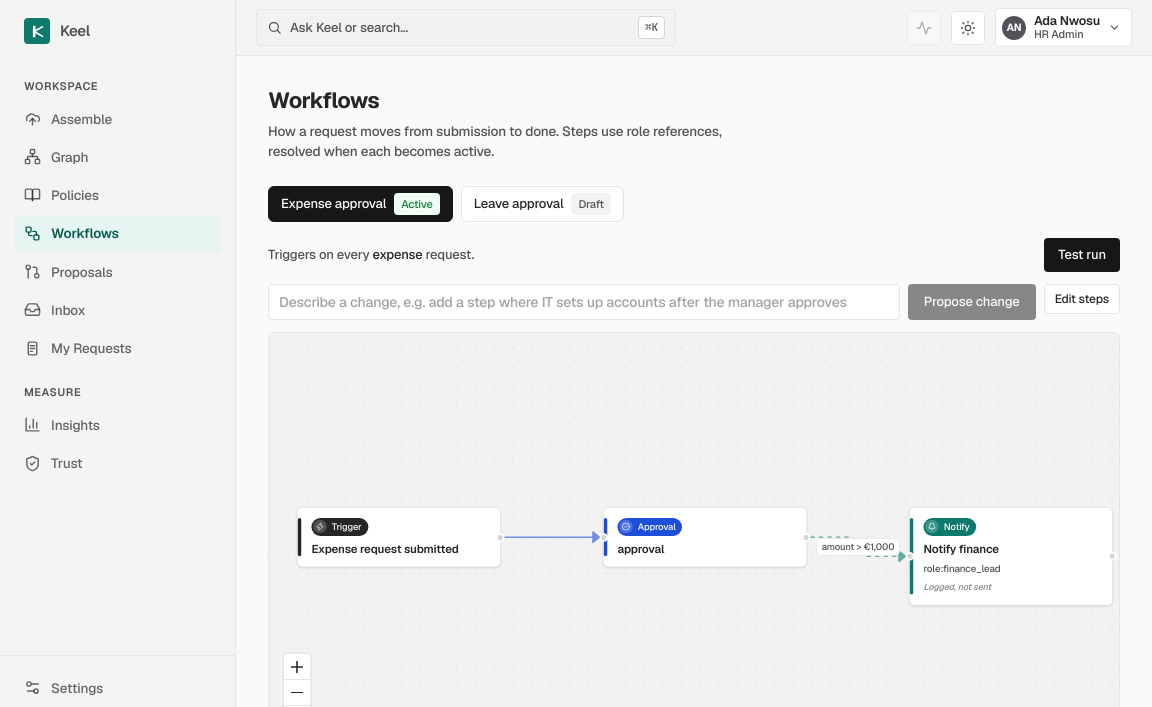
Test: /workflows › switches workflows when a different tab is picked
The width and height of the screenshot is (1152, 707).
Check: the text "Expense request submitted" is shown, box 312,541 -> 459,556
Click the tab "Leave approval Draft".
click(542, 204)  # box 461,186 -> 624,222
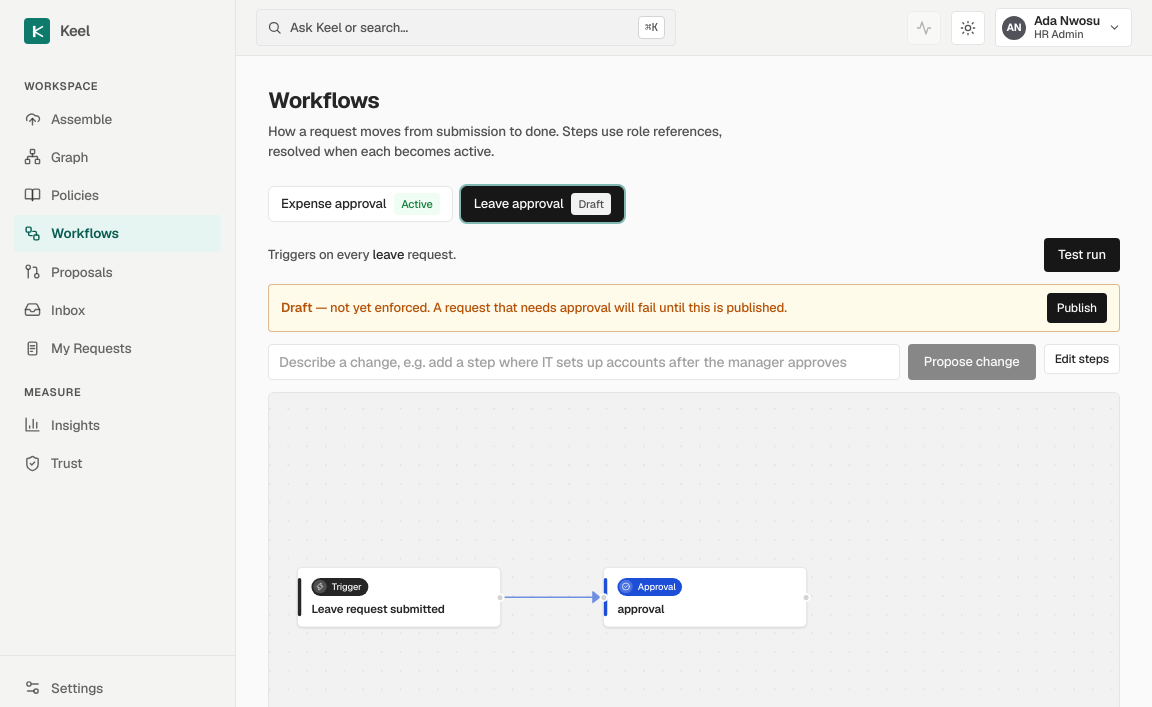
Check: the text "Leave request submitted" is shown, box 312,601 -> 445,616
